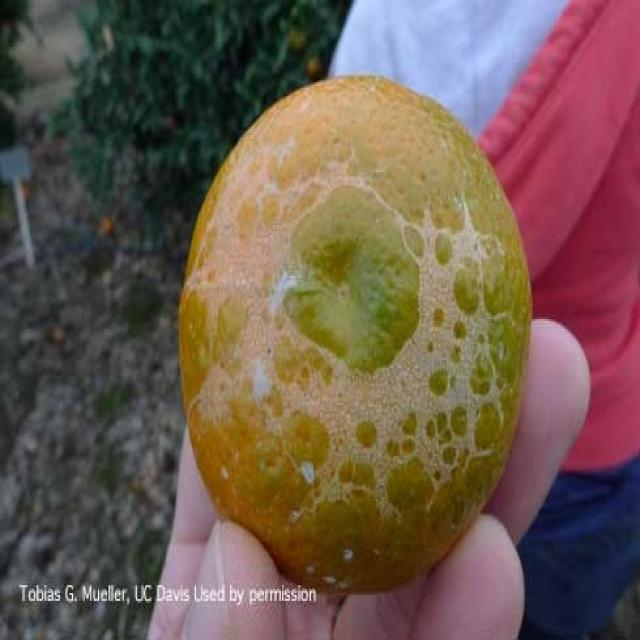thrips: (169, 58, 544, 594)
